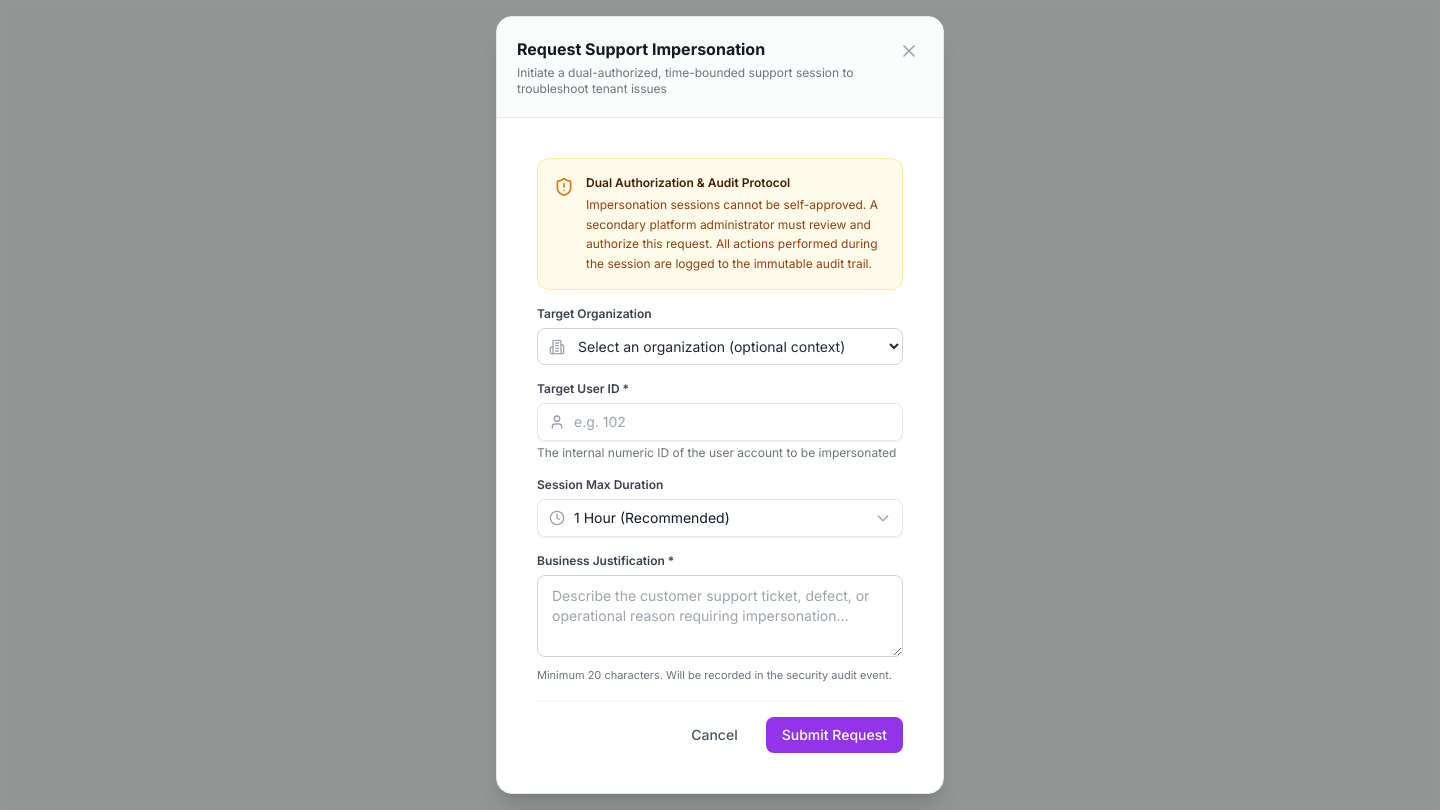
Test: StartImpersonationModal Component › validates required fields before submission
Click the button "Submit Request": x=834, y=735 [766, 717, 903, 753]
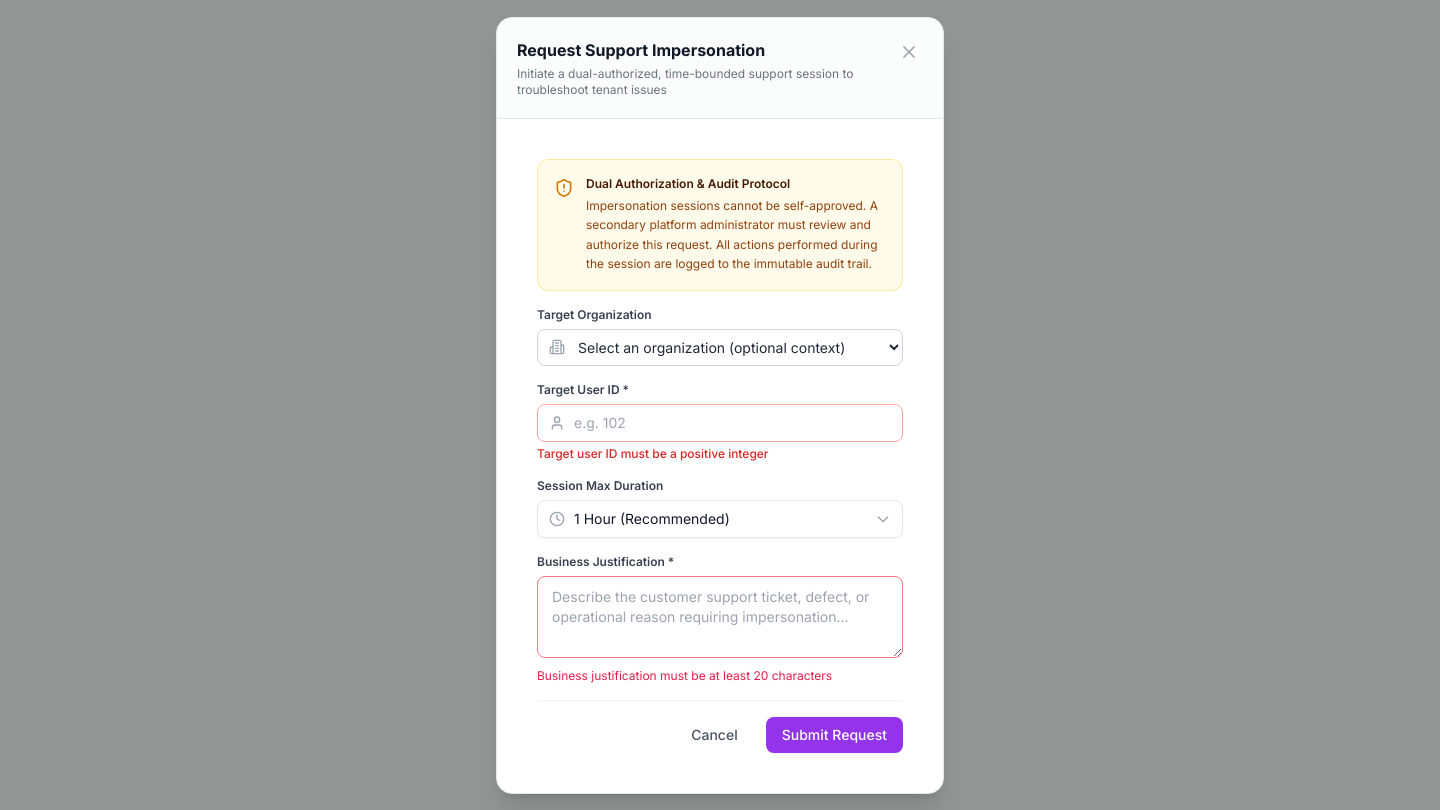
Now the text "Target user ID must be a positive integer" is shown, box [537, 446, 768, 460]
Now the text "Business justification must be at least 20 characters" is shown, box [537, 668, 832, 682]
